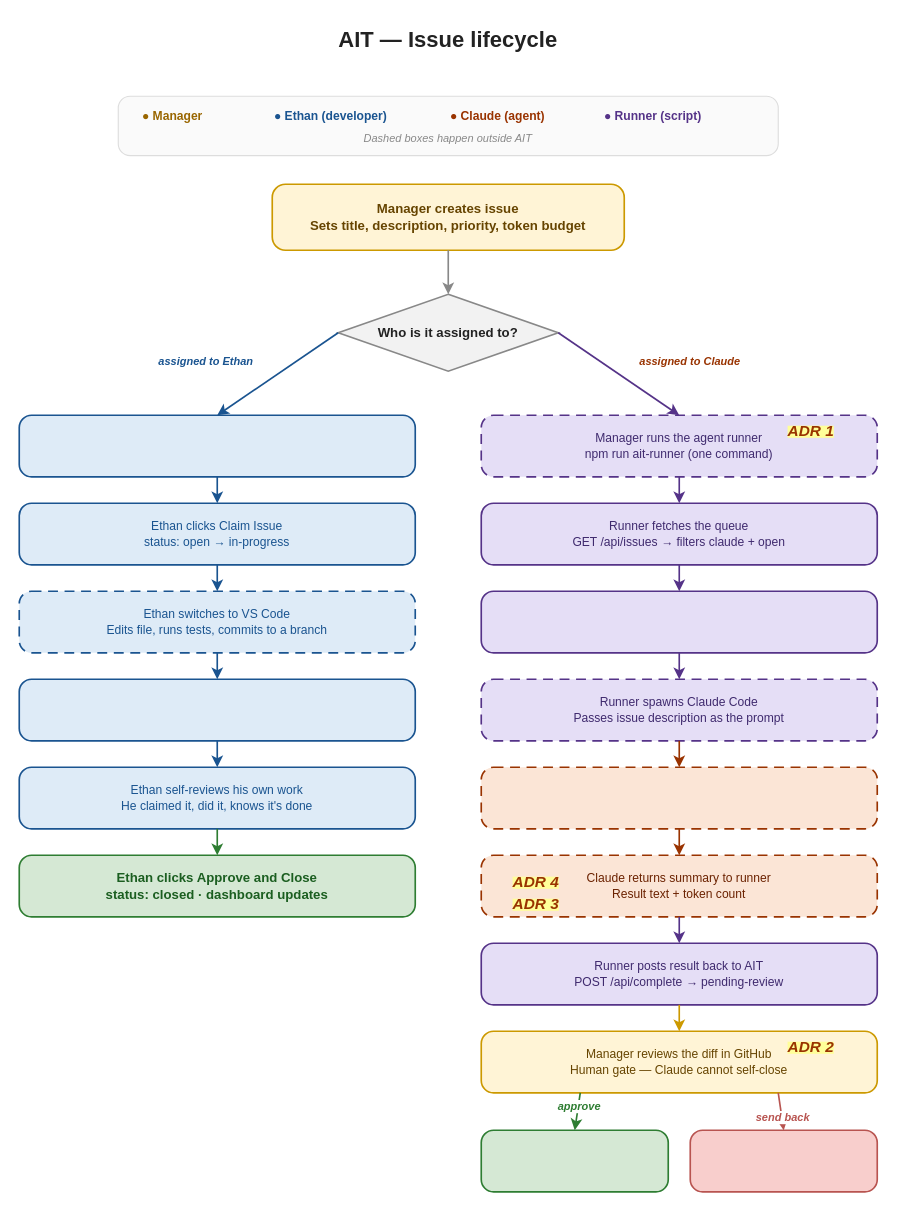
This 908x1211 diagram has some shape labels left out. The shapes that lost their labels are listed below. From the top down, each one's box as (x1, y1, x2, y2) in pixels, then its label:
(18, 414, 416, 477): Ethan opens AIT in browser Sees the issue in his assigned filter
(480, 590, 878, 653): Runner claims the issue POST /api/claim → status: in-progress
(18, 678, 416, 741): Ethan clicks Post Result in AIT status → pending-review
(480, 766, 878, 829): Claude reads repo and edits files Greps code, edits, runs tests, iterates
(480, 1129, 669, 1192): Approve and Close status: closed
(689, 1129, 878, 1192): Send Back → in-progress
